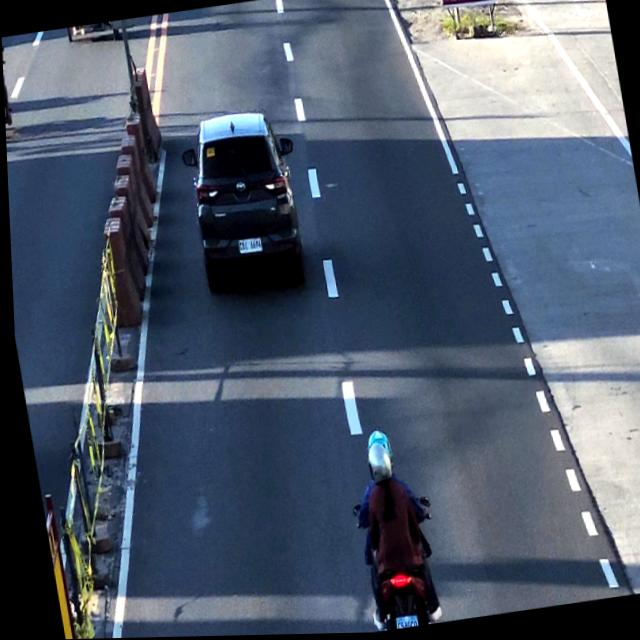Car: (180, 110, 308, 290)
License-Plate: (233, 235, 263, 259), (387, 614, 414, 630)
Motorcycle: (334, 415, 441, 634)
